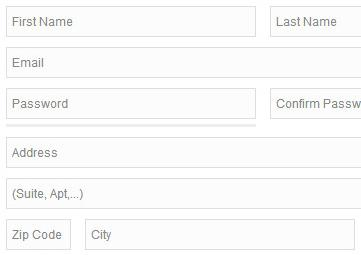field: (85, 219, 356, 251), (5, 87, 257, 120), (5, 5, 256, 37), (5, 218, 72, 250)
